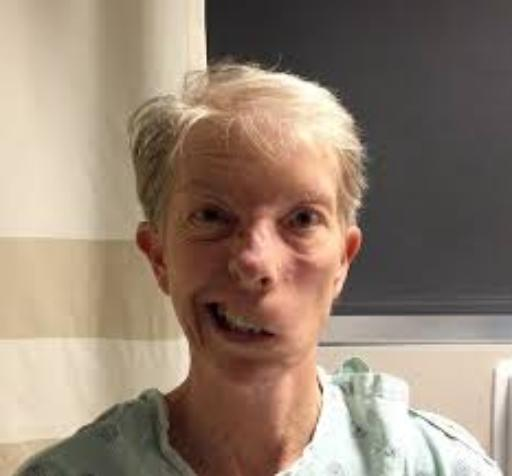left_eye: (282, 210, 329, 234)
left_lip_corner: (269, 330, 285, 345)
right_eye: (188, 208, 233, 229)
right_lip_corner: (199, 300, 222, 318)
